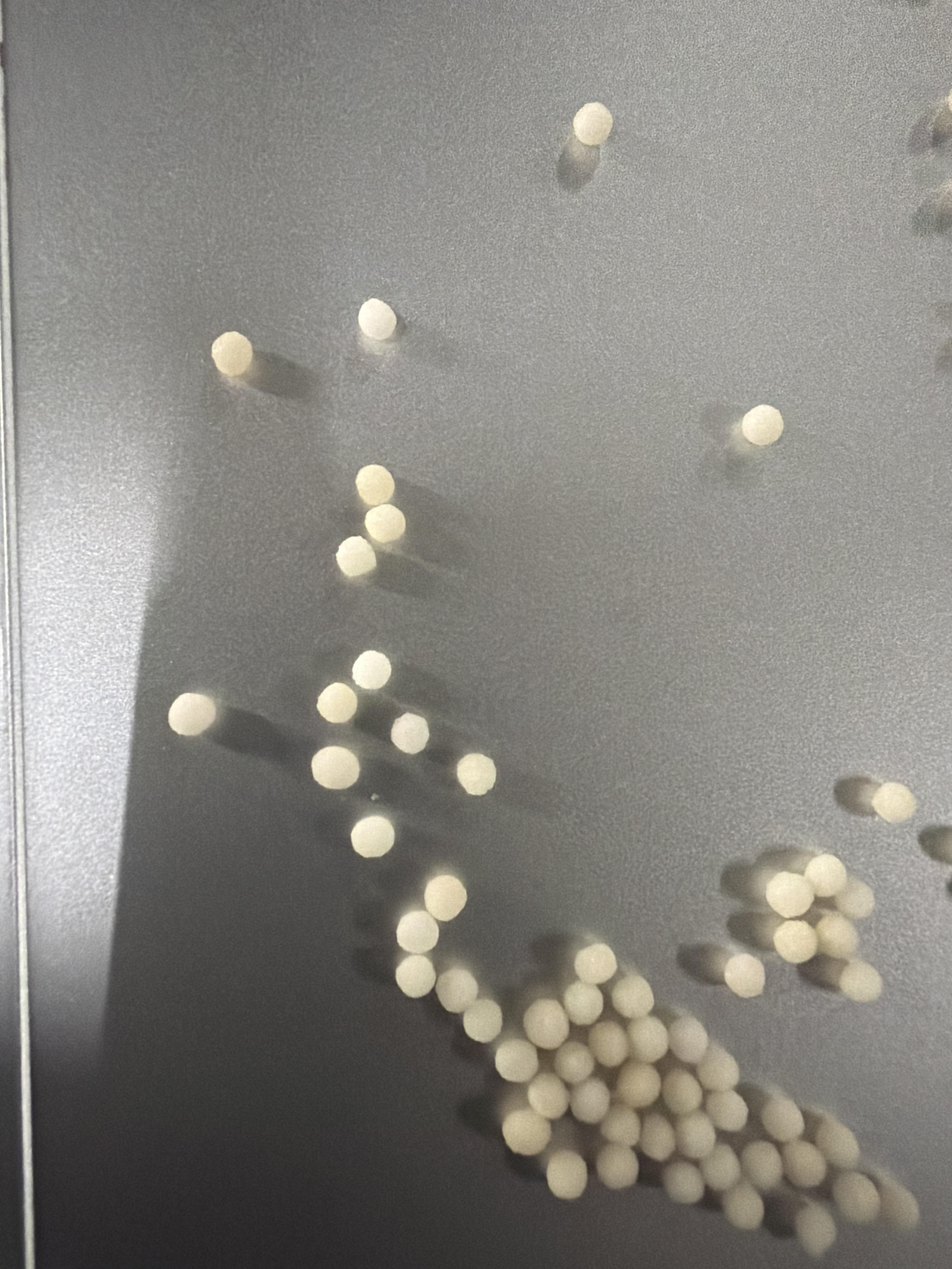pill: (831, 1171, 879, 1223), (813, 1117, 860, 1169), (876, 1176, 920, 1231), (765, 871, 815, 919), (523, 998, 569, 1050), (502, 1108, 551, 1156), (794, 1203, 836, 1258), (781, 1139, 827, 1188), (615, 1061, 661, 1109), (695, 1043, 740, 1091), (311, 746, 360, 790), (740, 1141, 783, 1191), (722, 1180, 764, 1230), (546, 1149, 587, 1200), (595, 1142, 638, 1190), (424, 874, 467, 922), (168, 693, 216, 736), (699, 1143, 741, 1192), (675, 1110, 716, 1160), (760, 1096, 804, 1142), (814, 913, 858, 959), (527, 1072, 569, 1120), (773, 920, 818, 964), (804, 853, 848, 898), (611, 973, 654, 1019), (435, 967, 478, 1013), (588, 1020, 629, 1068), (495, 1038, 538, 1083), (661, 1069, 703, 1115), (871, 781, 917, 823), (211, 331, 253, 377), (628, 1015, 668, 1063), (838, 959, 882, 1002), (396, 909, 439, 953), (351, 815, 395, 858), (723, 953, 765, 998), (553, 1040, 595, 1085), (639, 1111, 676, 1162), (570, 1077, 610, 1124), (669, 1016, 708, 1064), (662, 1160, 704, 1204), (705, 1090, 749, 1132), (563, 981, 604, 1026), (833, 877, 875, 920), (574, 943, 617, 985), (741, 404, 783, 447), (395, 954, 436, 998), (599, 1104, 640, 1147), (573, 102, 613, 146), (317, 682, 358, 724), (456, 752, 496, 795), (355, 464, 395, 507), (463, 999, 502, 1043), (336, 536, 376, 578), (351, 650, 392, 690), (365, 503, 405, 544), (390, 712, 429, 754), (358, 298, 397, 340)
